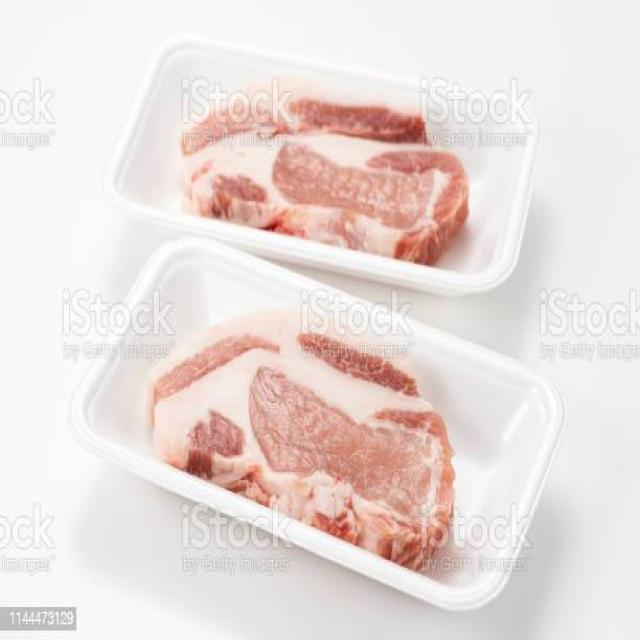pork: (83, 247, 526, 592), (129, 46, 519, 266)
